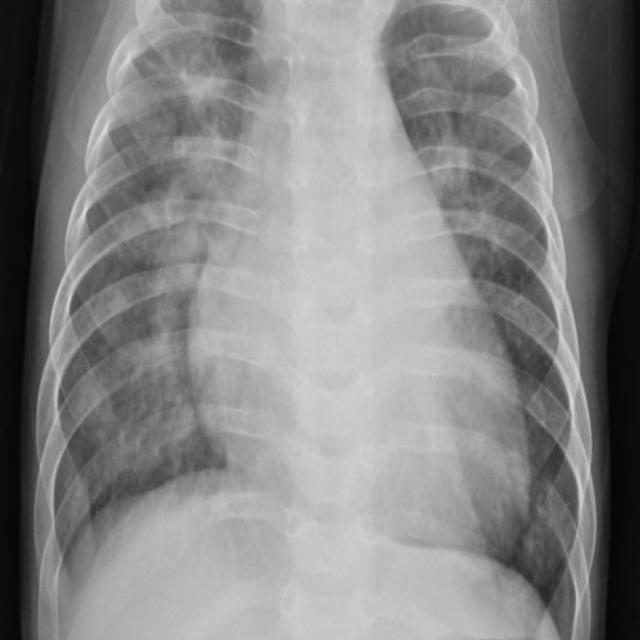low-pneumonia: (134, 63, 238, 302), (426, 92, 514, 248), (117, 319, 195, 479), (124, 9, 214, 114)
